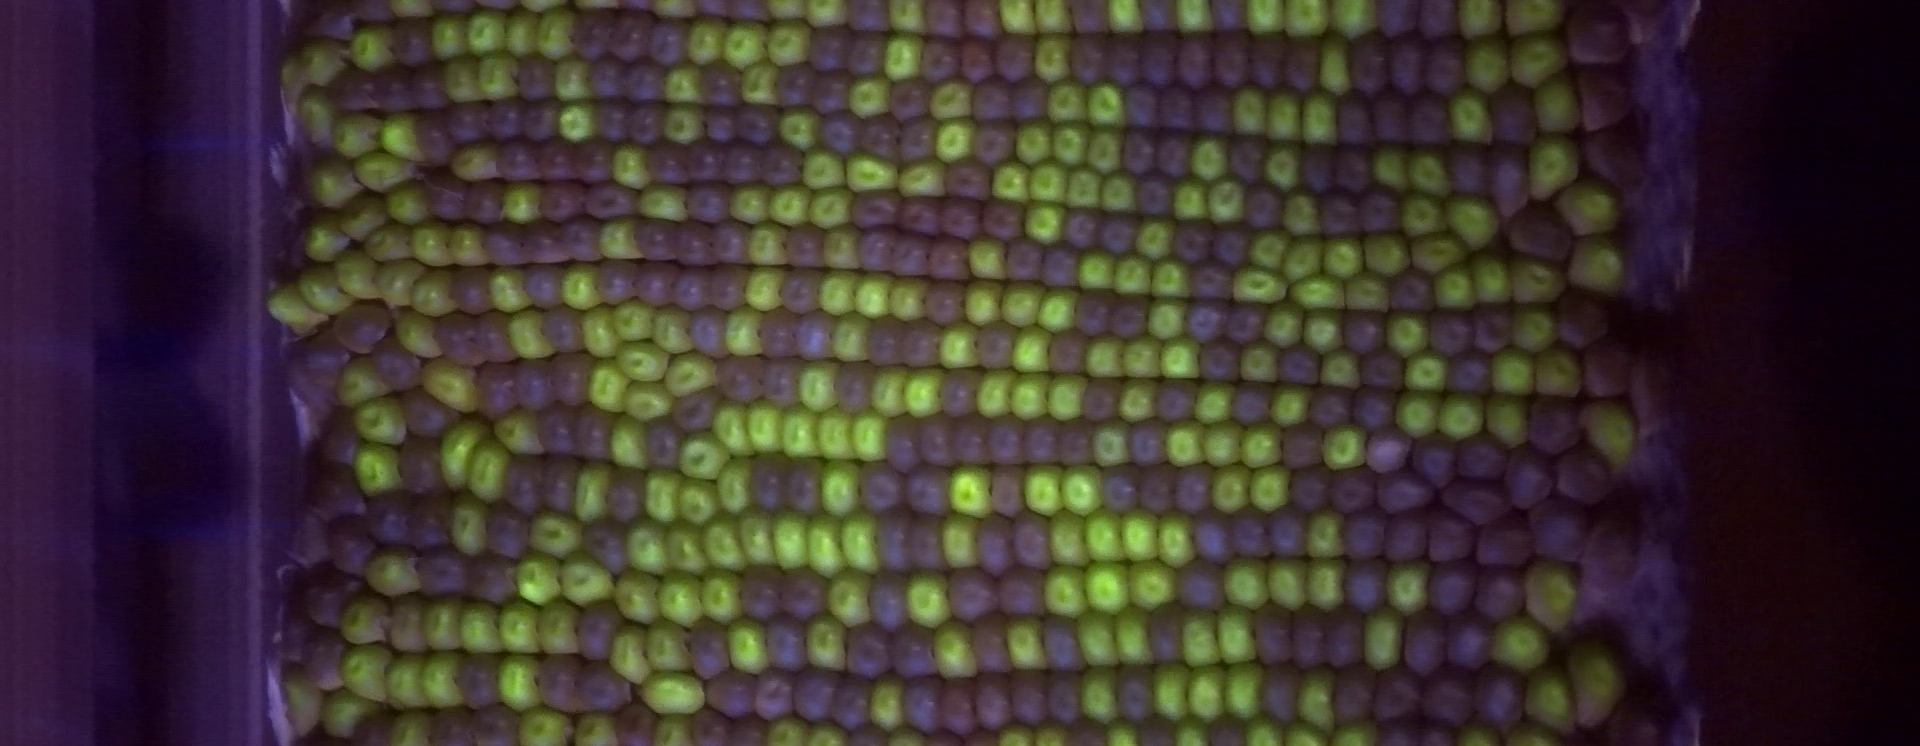fluorescent: (1569, 649, 1622, 733), (1526, 556, 1581, 632), (1582, 401, 1638, 468), (1550, 183, 1619, 236), (1522, 665, 1575, 733), (1528, 135, 1583, 198), (276, 661, 322, 733), (1566, 241, 1624, 296), (362, 546, 420, 597), (464, 439, 511, 500), (440, 419, 482, 485), (622, 517, 669, 577), (905, 570, 951, 630), (607, 624, 654, 684), (266, 283, 320, 334), (1510, 257, 1566, 306), (793, 360, 845, 413), (562, 555, 613, 608), (1494, 619, 1547, 670), (351, 394, 407, 443), (1382, 555, 1429, 612), (638, 675, 710, 712), (422, 363, 474, 414), (720, 20, 771, 70), (528, 511, 582, 559), (344, 646, 392, 699), (1531, 78, 1577, 132), (378, 254, 424, 309), (506, 307, 551, 363), (609, 414, 651, 472), (1300, 668, 1338, 733), (1449, 196, 1499, 245), (950, 463, 993, 519), (299, 38, 349, 86), (1183, 605, 1223, 664), (819, 408, 862, 463), (424, 653, 467, 708), (1262, 88, 1304, 145), (1461, 43, 1509, 92), (326, 690, 380, 733), (714, 402, 756, 457), (844, 510, 880, 572), (493, 601, 535, 657), (682, 432, 731, 479), (351, 154, 411, 192), (1365, 608, 1403, 668), (804, 612, 845, 669), (936, 619, 976, 675), (421, 595, 467, 646), (1513, 39, 1565, 83), (829, 570, 872, 622), (937, 320, 978, 374), (500, 657, 541, 710), (767, 17, 812, 66), (616, 575, 661, 624), (807, 514, 842, 577), (343, 597, 387, 647), (852, 409, 891, 465), (780, 405, 823, 457), (1224, 559, 1267, 610), (304, 211, 345, 263), (700, 571, 742, 624), (1004, 615, 1046, 668), (1051, 511, 1089, 568), (380, 113, 425, 160), (394, 309, 440, 356), (902, 367, 947, 416), (574, 462, 611, 521), (313, 159, 356, 209), (336, 360, 387, 402), (1087, 561, 1129, 612), (1076, 610, 1117, 663), (516, 707, 573, 744), (1205, 179, 1251, 224), (516, 555, 561, 601), (927, 76, 975, 120), (1131, 560, 1176, 608), (667, 519, 705, 575), (1224, 668, 1262, 723), (551, 55, 591, 107), (1153, 664, 1190, 720), (722, 304, 762, 356), (1158, 513, 1198, 566), (1269, 552, 1308, 605), (933, 118, 978, 163), (774, 104, 820, 148), (744, 220, 789, 267), (1036, 285, 1082, 330), (666, 354, 713, 398), (1324, 428, 1370, 472), (1044, 565, 1082, 619), (1082, 668, 1120, 722), (1022, 465, 1064, 514), (729, 624, 770, 673), (459, 600, 500, 650), (299, 89, 336, 145), (540, 601, 577, 657), (451, 500, 489, 552), (386, 600, 424, 653), (823, 225, 867, 271), (1033, 36, 1076, 82), (1449, 93, 1491, 140), (497, 412, 544, 454), (1304, 512, 1347, 559), (648, 626, 691, 673), (1469, 261, 1517, 303), (1299, 91, 1340, 140), (1014, 116, 1054, 165), (943, 516, 980, 570), (1291, 273, 1348, 307), (580, 305, 615, 363), (587, 365, 626, 415), (1441, 392, 1480, 442), (1113, 609, 1149, 664), (746, 401, 784, 452), (302, 269, 347, 314), (882, 36, 924, 81), (609, 141, 651, 186), (1010, 327, 1053, 372), (1047, 371, 1090, 416), (358, 445, 400, 490), (332, 114, 378, 156), (653, 307, 694, 354), (1232, 269, 1288, 304), (828, 317, 868, 365), (804, 189, 853, 228), (1212, 464, 1251, 513), (824, 464, 860, 518), (617, 343, 667, 381), (680, 479, 718, 529), (351, 29, 394, 73), (1220, 611, 1254, 666), (869, 676, 904, 731), (411, 225, 457, 267), (485, 271, 531, 311), (1321, 34, 1353, 93), (899, 158, 947, 197), (1509, 1, 1561, 37), (1283, 236, 1321, 285), (647, 469, 684, 518), (1122, 508, 1160, 557), (1370, 143, 1407, 194), (1431, 274, 1482, 311), (874, 367, 911, 418), (535, 11, 578, 54), (1149, 258, 1193, 300), (1536, 352, 1580, 393), (500, 183, 545, 223), (1062, 470, 1102, 516), (1398, 390, 1438, 436), (660, 575, 699, 621), (1310, 559, 1343, 614), (687, 16, 725, 64), (1413, 149, 1451, 197), (418, 269, 456, 317), (1089, 510, 1123, 562), (1199, 379, 1236, 428), (776, 510, 807, 568), (389, 654, 421, 710), (803, 146, 846, 187), (1401, 194, 1442, 236), (729, 181, 771, 223), (611, 298, 653, 341), (1000, 281, 1044, 321), (1491, 352, 1532, 396), (744, 510, 778, 563), (452, 142, 500, 179), (820, 269, 857, 317), (1014, 372, 1051, 420), (1191, 669, 1224, 722), (1305, 304, 1341, 353), (1079, 247, 1119, 290), (451, 225, 491, 268), (464, 11, 503, 55), (1232, 85, 1266, 135), (637, 184, 687, 218), (624, 382, 675, 416), (709, 516, 742, 567), (1281, 1, 1329, 37), (850, 76, 891, 116), (1253, 467, 1293, 508), (340, 201, 383, 240), (382, 183, 425, 222), (1242, 426, 1284, 465), (1346, 273, 1390, 311), (1389, 310, 1427, 354), (1403, 352, 1447, 390), (891, 276, 928, 321), (1119, 379, 1156, 424), (433, 12, 467, 62), (1265, 146, 1299, 194), (1412, 236, 1460, 271), (598, 222, 645, 256), (1134, 218, 1174, 258), (1204, 420, 1244, 461), (1051, 119, 1090, 160), (1322, 238, 1362, 279), (1149, 296, 1188, 338), (1161, 341, 1202, 380), (1116, 254, 1153, 296), (504, 12, 541, 56), (741, 62, 778, 107), (1089, 330, 1122, 379), (718, 463, 748, 516), (1172, 1, 1212, 40), (1365, 236, 1406, 276), (1262, 303, 1303, 342), (338, 257, 376, 299), (561, 269, 602, 307), (1240, 342, 1278, 383), (444, 58, 478, 105), (1089, 125, 1123, 170), (845, 156, 898, 185), (666, 105, 705, 145), (662, 62, 703, 100), (1171, 178, 1209, 218), (1511, 310, 1551, 348), (747, 267, 784, 309), (1171, 421, 1207, 463), (1093, 423, 1130, 464), (1089, 85, 1127, 124), (771, 187, 811, 225), (969, 236, 1005, 277), (978, 370, 1010, 416), (857, 272, 893, 314), (389, 708, 431, 744), (1280, 197, 1322, 232), (1488, 399, 1521, 443), (1455, 1, 1500, 33), (1047, 82, 1084, 121), (1025, 205, 1064, 241), (1270, 383, 1307, 423), (482, 54, 514, 98), (1248, 232, 1286, 268), (1243, 2, 1284, 36), (367, 230, 414, 260), (967, 281, 999, 323), (1190, 137, 1227, 174), (997, 1, 1037, 34), (1100, 176, 1135, 213), (1123, 337, 1160, 372), (1321, 349, 1359, 383), (993, 162, 1026, 201), (1332, 1, 1374, 32), (560, 102, 594, 138), (887, 1, 926, 32), (1031, 167, 1065, 201), (1107, 1, 1142, 34), (807, 1, 849, 29), (1035, 1, 1071, 33), (1070, 171, 1101, 209), (765, 717, 807, 744), (577, 715, 616, 744), (656, 717, 693, 745), (280, 58, 306, 97), (997, 722, 1032, 745), (389, 1, 433, 18), (808, 723, 845, 742), (1033, 723, 1068, 744), (1104, 722, 1138, 742), (765, 2, 804, 20), (1249, 722, 1278, 744), (1176, 724, 1202, 742)
nonfluorescent: (1549, 441, 1615, 512), (1587, 510, 1644, 590), (1509, 198, 1573, 266), (1578, 126, 1641, 194), (1626, 353, 1674, 440), (1569, 1, 1633, 62), (1522, 387, 1583, 452), (1487, 77, 1540, 148), (1330, 660, 1384, 731), (294, 332, 351, 398), (1450, 428, 1512, 488), (305, 464, 373, 518), (394, 432, 449, 499), (1469, 668, 1524, 734), (994, 568, 1058, 624), (1040, 612, 1095, 676), (1576, 64, 1630, 129), (1531, 497, 1587, 559), (1505, 448, 1558, 513), (1555, 284, 1607, 350), (336, 298, 393, 356), (744, 448, 795, 516), (900, 461, 960, 517), (573, 595, 623, 661), (1176, 557, 1236, 612), (855, 454, 907, 517), (1250, 597, 1297, 666), (1438, 477, 1509, 522), (315, 401, 362, 468), (684, 616, 732, 684), (481, 499, 530, 563), (1607, 697, 1671, 746), (1419, 675, 1477, 730), (902, 510, 950, 576), (1445, 610, 1496, 671), (762, 612, 812, 675), (1112, 661, 1162, 724), (1403, 612, 1452, 676), (465, 552, 522, 608), (1335, 559, 1391, 614), (446, 263, 503, 317), (370, 338, 427, 392), (1381, 506, 1435, 563), (1476, 565, 1527, 625), (1348, 32, 1395, 98), (500, 451, 545, 518), (538, 649, 583, 717), (793, 663, 839, 730), (735, 560, 782, 624), (967, 669, 1015, 733), (1162, 461, 1216, 517), (1011, 505, 1056, 573), (1375, 468, 1435, 518), (411, 110, 460, 171), (577, 521, 629, 577), (791, 307, 841, 366), (456, 648, 504, 708), (864, 573, 912, 635), (1584, 338, 1629, 404), (880, 412, 924, 478), (302, 624, 347, 690), (975, 508, 1016, 578), (512, 49, 566, 103), (844, 620, 894, 677), (549, 347, 593, 412), (756, 665, 802, 726), (631, 216, 683, 269), (1346, 380, 1400, 432), (776, 567, 830, 620), (1430, 565, 1483, 619), (687, 307, 738, 363), (1411, 431, 1461, 488), (893, 622, 943, 679), (1247, 24, 1287, 94), (476, 307, 520, 371), (473, 359, 520, 418), (576, 397, 617, 464), (1471, 521, 1531, 567), (1152, 124, 1198, 185), (576, 658, 629, 709), (411, 549, 467, 599), (948, 568, 998, 624), (1044, 668, 1089, 730), (845, 184, 902, 232), (1494, 145, 1531, 219), (370, 492, 416, 551), (711, 354, 764, 405), (402, 390, 457, 439), (970, 616, 1014, 677), (469, 699, 527, 746), (1190, 507, 1236, 566), (1153, 376, 1205, 428), (605, 467, 649, 527), (437, 315, 487, 367), (1425, 513, 1474, 567), (604, 9, 650, 65), (1269, 505, 1314, 562), (538, 398, 579, 461), (1411, 89, 1455, 148), (1294, 606, 1333, 673), (276, 593, 309, 671), (1375, 668, 1419, 726), (1390, 265, 1440, 316), (756, 141, 808, 190), (762, 352, 804, 412), (607, 699, 662, 746), (328, 518, 373, 575), (864, 314, 909, 371), (940, 363, 984, 420), (1327, 467, 1378, 517), (804, 23, 853, 75), (482, 220, 534, 269), (1018, 414, 1065, 467), (1389, 34, 1427, 100), (1329, 601, 1367, 668), (1226, 134, 1272, 187), (631, 258, 677, 312), (1106, 287, 1152, 341), (1359, 428, 1413, 474), (1256, 665, 1298, 725), (1269, 343, 1324, 388), (831, 359, 871, 423), (422, 170, 467, 227), (1232, 505, 1276, 561), (785, 448, 820, 518), (775, 267, 825, 316), (1068, 288, 1117, 338), (1424, 309, 1474, 358), (1288, 468, 1337, 518), (707, 668, 757, 717), (1438, 353, 1496, 394), (671, 261, 715, 316), (984, 412, 1029, 467), (666, 390, 721, 434), (874, 512, 912, 576), (758, 307, 801, 364), (916, 412, 959, 468), (1425, 43, 1464, 104), (305, 576, 354, 625), (1240, 186, 1291, 234), (899, 318, 947, 369), (1340, 510, 1387, 560), (834, 671, 876, 729), (850, 225, 901, 272), (595, 258, 640, 311), (540, 304, 585, 356), (517, 356, 557, 415), (1209, 32, 1247, 94), (1138, 458, 1177, 518), (291, 506, 331, 566), (580, 179, 637, 220), (644, 415, 686, 472), (384, 15, 432, 64), (1283, 29, 1320, 93), (569, 138, 618, 186), (540, 454, 577, 518), (1305, 383, 1356, 430), (1176, 31, 1213, 92), (784, 222, 828, 274), (898, 677, 942, 730), (942, 160, 996, 203), (1138, 31, 1177, 89), (1472, 300, 1511, 359), (915, 37, 962, 85), (327, 66, 375, 114), (735, 97, 782, 145), (1358, 187, 1404, 236), (682, 138, 729, 187), (937, 194, 983, 243), (459, 178, 504, 228), (1124, 416, 1169, 467), (896, 116, 940, 168), (973, 318, 1016, 371), (424, 703, 476, 746), (1104, 31, 1144, 88), (860, 111, 901, 165), (989, 463, 1027, 522), (1008, 239, 1056, 285), (1184, 299, 1231, 347), (1221, 296, 1267, 344), (1340, 311, 1386, 359), (724, 140, 768, 190), (673, 219, 718, 269), (1336, 97, 1379, 148), (700, 59, 743, 110), (924, 276, 967, 327), (1321, 190, 1363, 243), (413, 492, 451, 550), (842, 29, 889, 76), (443, 99, 490, 146), (981, 198, 1027, 245), (1168, 216, 1213, 263), (489, 94, 528, 149), (896, 194, 945, 238), (1056, 207, 1104, 251), (1060, 418, 1104, 467), (684, 183, 735, 225), (1331, 148, 1373, 200), (1297, 140, 1335, 196), (1156, 88, 1202, 134), (520, 266, 564, 314), (1452, 148, 1495, 197), (887, 80, 936, 122), (563, 216, 606, 265), (707, 265, 749, 314), (1078, 372, 1120, 421), (820, 108, 862, 158), (1212, 220, 1254, 271), (1356, 348, 1406, 390), (1052, 328, 1093, 379), (1098, 462, 1138, 514), (928, 236, 972, 283), (1224, 379, 1271, 423), (648, 21, 691, 69), (971, 77, 1014, 125), (713, 220, 756, 268), (1282, 425, 1330, 468), (538, 184, 587, 225), (569, 9, 610, 59), (891, 229, 932, 279), (1011, 78, 1056, 124), (492, 141, 538, 185), (1198, 342, 1243, 386), (644, 143, 687, 190), (531, 141, 578, 184), (1068, 36, 1108, 85), (410, 62, 451, 111), (996, 34, 1035, 85), (972, 125, 1016, 169), (944, 674, 975, 736), (1014, 668, 1044, 730), (527, 219, 564, 269), (375, 62, 411, 114), (951, 414, 988, 465), (354, 702, 397, 746), (1131, 176, 1177, 218), (1044, 243, 1085, 289), (305, 10, 358, 45), (688, 707, 735, 746), (958, 36, 996, 83), (1378, 94, 1416, 142), (921, 1, 966, 40), (1373, 1, 1418, 40), (1100, 213, 1139, 258), (1068, 1, 1114, 39), (849, 1, 898, 37), (624, 103, 666, 145), (962, 1, 1005, 42), (1418, 1, 1462, 40), (629, 64, 669, 108), (1153, 606, 1182, 666), (1201, 89, 1236, 138), (1120, 134, 1158, 178), (589, 60, 629, 100), (524, 96, 557, 145), (593, 99, 629, 143), (1140, 1, 1187, 36), (1125, 88, 1160, 134), (778, 62, 816, 103), (811, 75, 846, 118), (1128, 714, 1176, 746), (1213, 1, 1255, 37), (726, 712, 768, 746), (1195, 267, 1236, 301), (1202, 715, 1247, 746), (707, 108, 742, 146), (1379, 717, 1424, 746), (1059, 719, 1104, 746), (350, 1, 396, 27), (1419, 718, 1460, 746), (729, 1, 771, 24), (692, 1, 733, 24)
